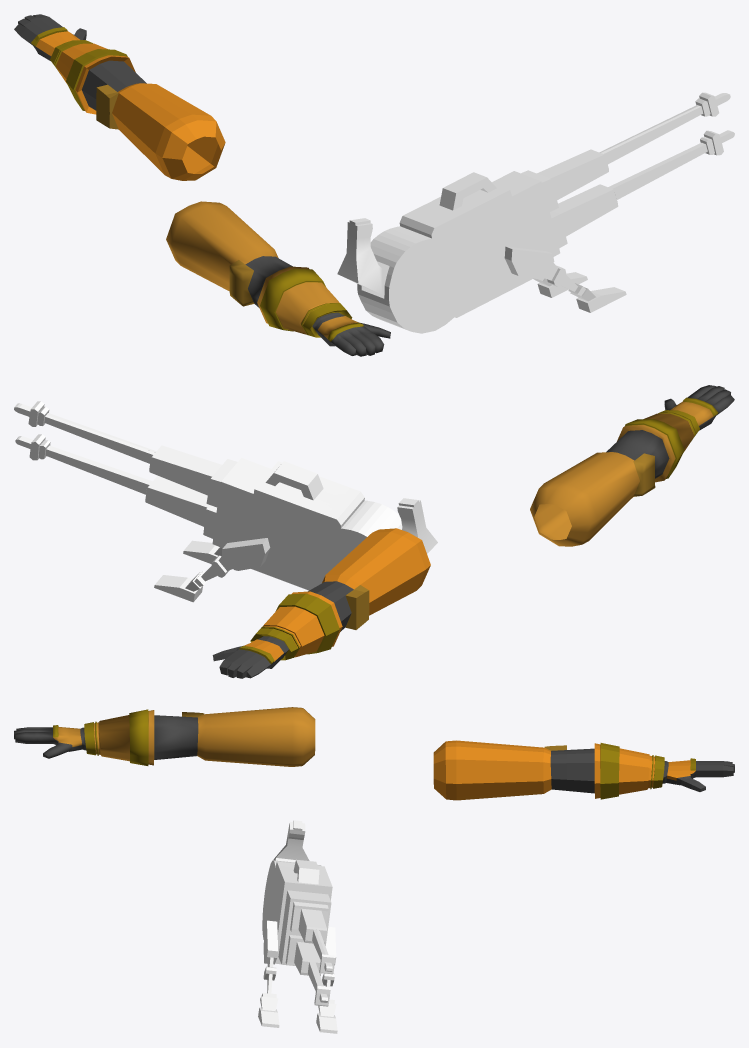
Rendered from sk_shooting.fbx.
3 renders of one model, top to bottom at view 1: azimuth 30°, elevation 25°; view 2: azimuth 150°, elevation 25°; view 3: azimuth 270°, elevation 25°, orthographic. The views are drawn at different scales.
Visible parts, largest first — view 1: LMG_Gun, Cylinder.002, Cylinder.003; view 2: LMG_Gun, Cylinder.003, Cylinder.002; view 3: Cylinder.003, Cylinder.002, LMG_Gun.
Boxes of the visible parts, left/top/right/bottom form: LMG_Gun: left=337, top=92, right=734, bottom=333; Cylinder.002: left=166, top=201, right=390, bottom=356; Cylinder.003: left=14, top=14, right=225, bottom=180; LMG_Gun: left=14, top=401, right=437, bottom=602; Cylinder.003: left=212, top=528, right=430, bottom=678; Cylinder.002: left=530, top=385, right=734, bottom=546; Cylinder.003: left=433, top=740, right=734, bottom=800; Cylinder.002: left=14, top=707, right=315, bottom=766; LMG_Gun: left=258, top=820, right=337, bottom=1033.
Size of the model in its own units: 159 by 50.72 by 202.
